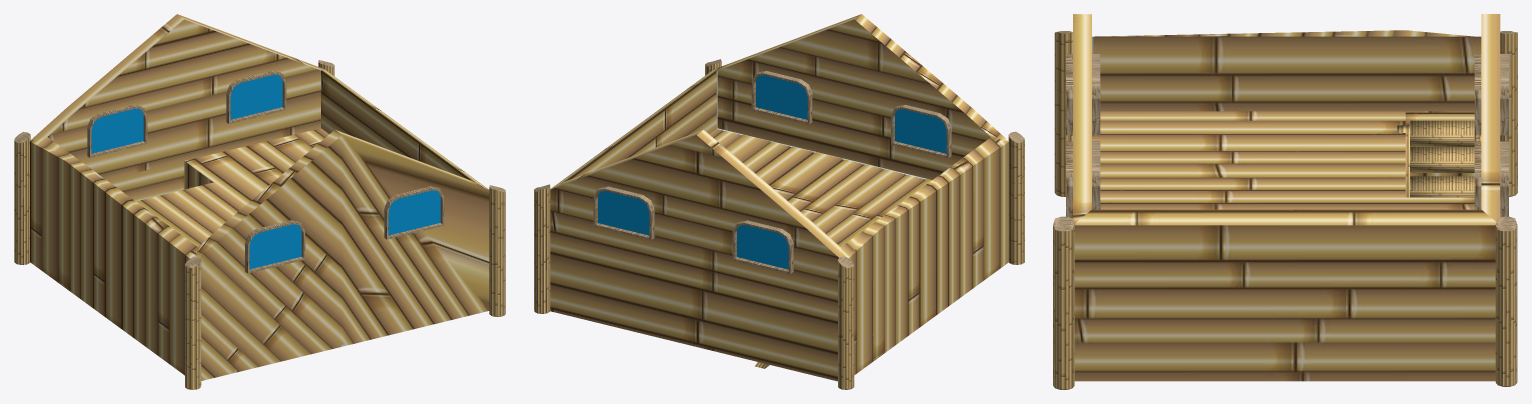
The model's file is CajaCasa 3.5 Interior 2.fbx.
3 renders of one model, left to right at view 1: azimuth 30°, elevation 25°; view 2: azimuth 150°, elevation 25°; view 3: azimuth 270°, elevation 25°, orthographic. The views are drawn at different scales.
Parts seen in each view (by area): view 1: Cube.015; view 2: Cube.015; view 3: Cube.015.
Boxes of the visible parts, left/top/right/bottom form: Cube.015: left=14, top=14, right=505, bottom=389; Cube.015: left=534, top=14, right=1024, bottom=389; Cube.015: left=1053, top=14, right=1517, bottom=389.
Bounding box in the file's own units: 728 × 486 × 713.
Materials: 11 (7 with a texture image).
